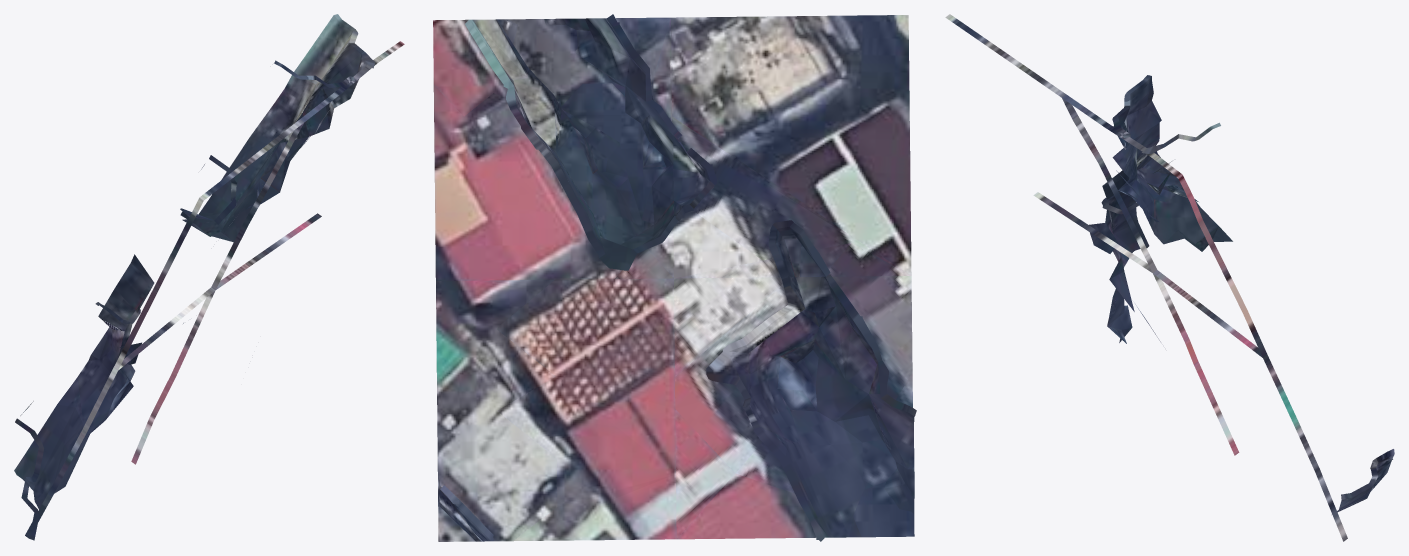
The picture shows the model from 3 angles, left to right: view 1: azimuth 30°, elevation 25°; view 2: azimuth 150°, elevation 25°; view 3: azimuth 270°, elevation 25°; orthographic projection. The views are drawn at different scales.
Size of the model in its own units: 38.85 by 37.7 by 34.98.
1 material, 1 textured.
